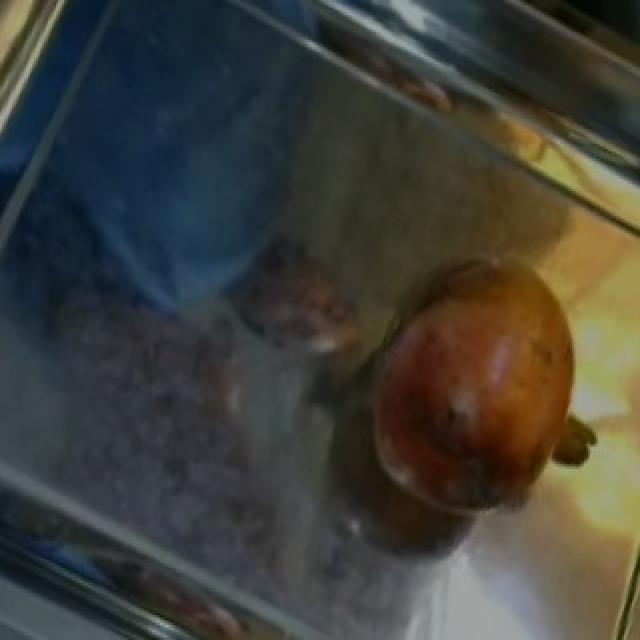fruit: (336, 226, 612, 501)
